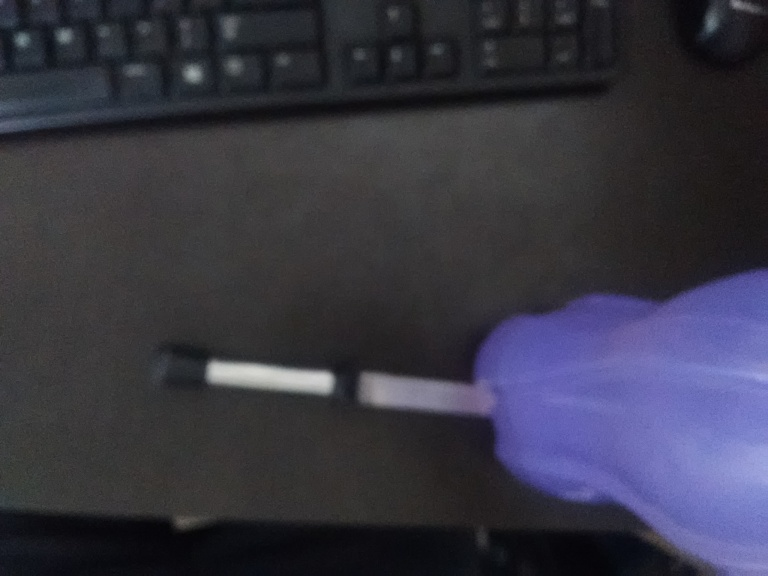knife: (149, 342, 471, 422)
